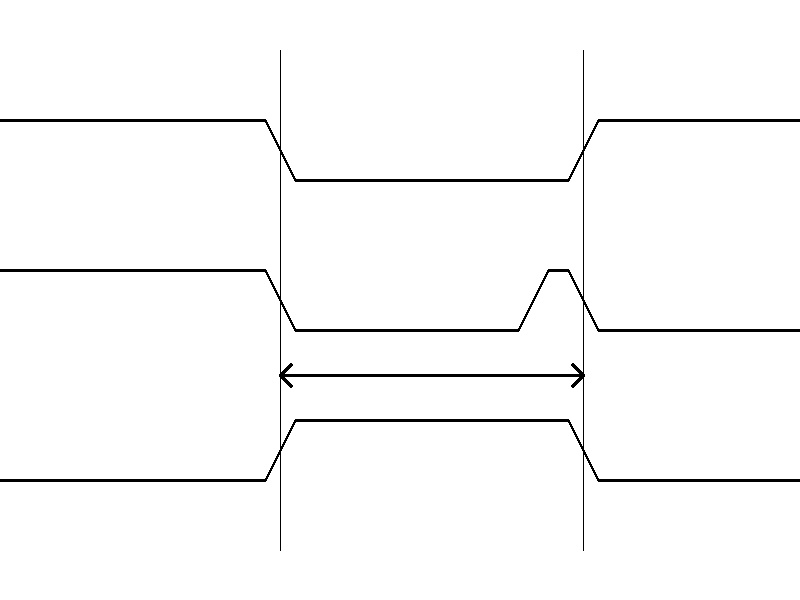double_arrow: (280, 360, 583, 390)
